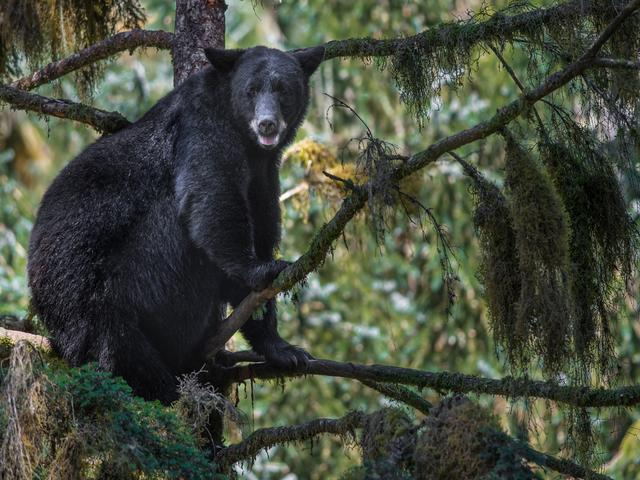Bear: (26, 42, 328, 391)
